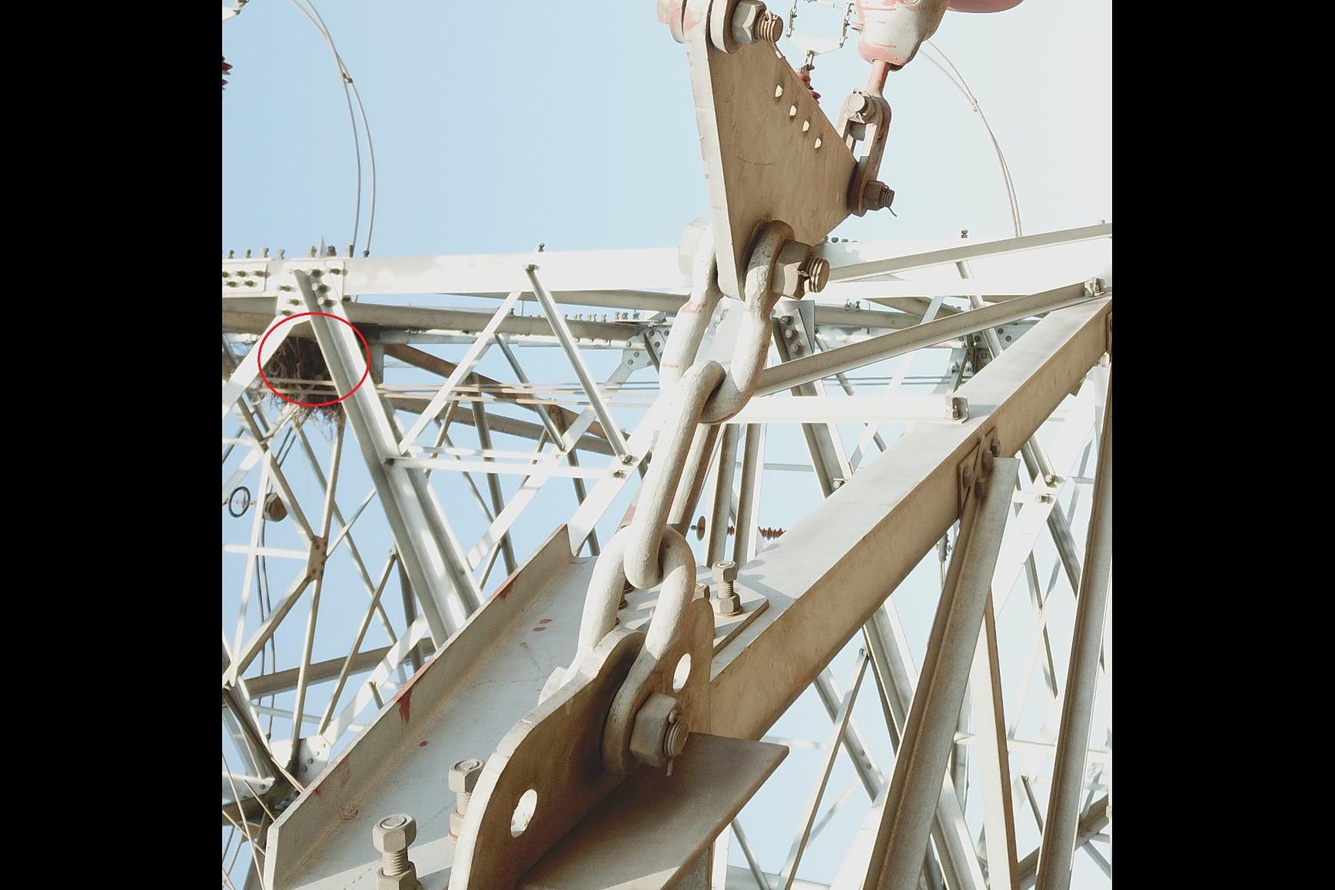nest: (255, 327, 355, 434)
